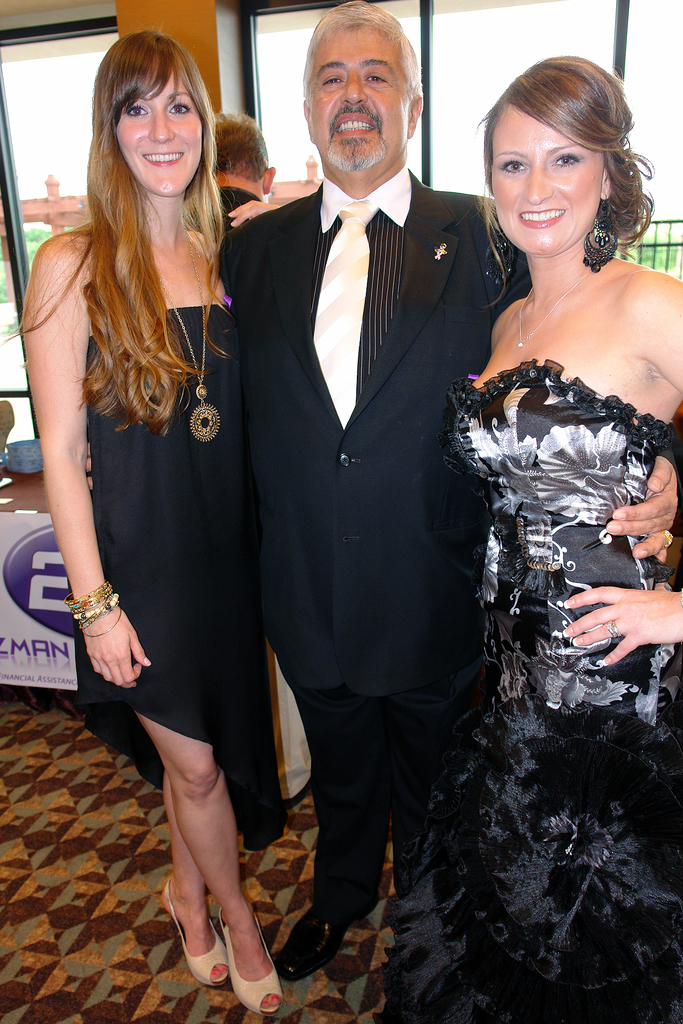Person: (216, 0, 531, 977), (180, 111, 276, 245)
